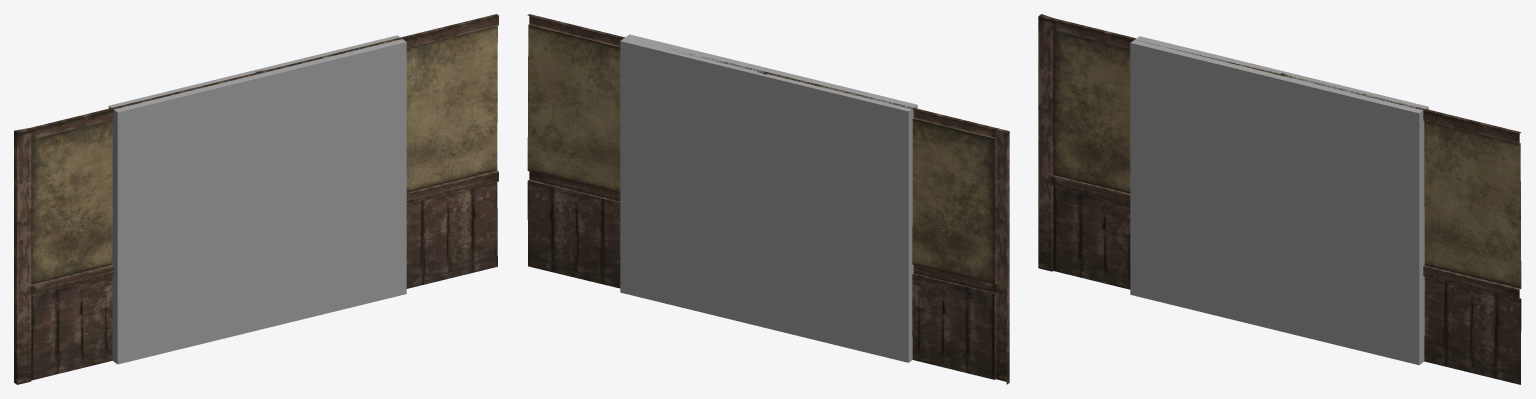
The model's file is ReWall2_Cut_L.fbx.
3 views of the same model, side by side, from view 1: azimuth 30°, elevation 25°; view 2: azimuth 150°, elevation 25°; view 3: azimuth 330°, elevation 25° (orthographic).
Visible parts, largest first — view 1: pCube2, RrWall3, RrWall2, polySurface1, polySurface2; view 2: pCube2, polySurface2, RrWall2, polySurface1, RrWall3; view 3: pCube2, RrWall3, RrWall2, polySurface1, polySurface2.
Part boxes in pixels (x1,y1,x2,y2): pCube2: (108,35,406,364); RrWall3: (255,14,498,288); RrWall2: (14,73,257,384); polySurface1: (15,110,113,383); polySurface2: (402,16,498,282); pCube2: (620,34,917,362); polySurface2: (527,14,624,288); RrWall2: (768,72,1009,384); polySurface1: (912,108,1007,379); RrWall3: (527,14,768,283); pCube2: (1130,36,1428,364); RrWall3: (1279,73,1521,384); RrWall2: (1038,14,1279,271); polySurface1: (1038,14,1135,289); polySurface2: (1423,109,1521,384).
Size of the model in its own units: 600 by 300 by 20.
Materials: 3 (2 with a texture image).
